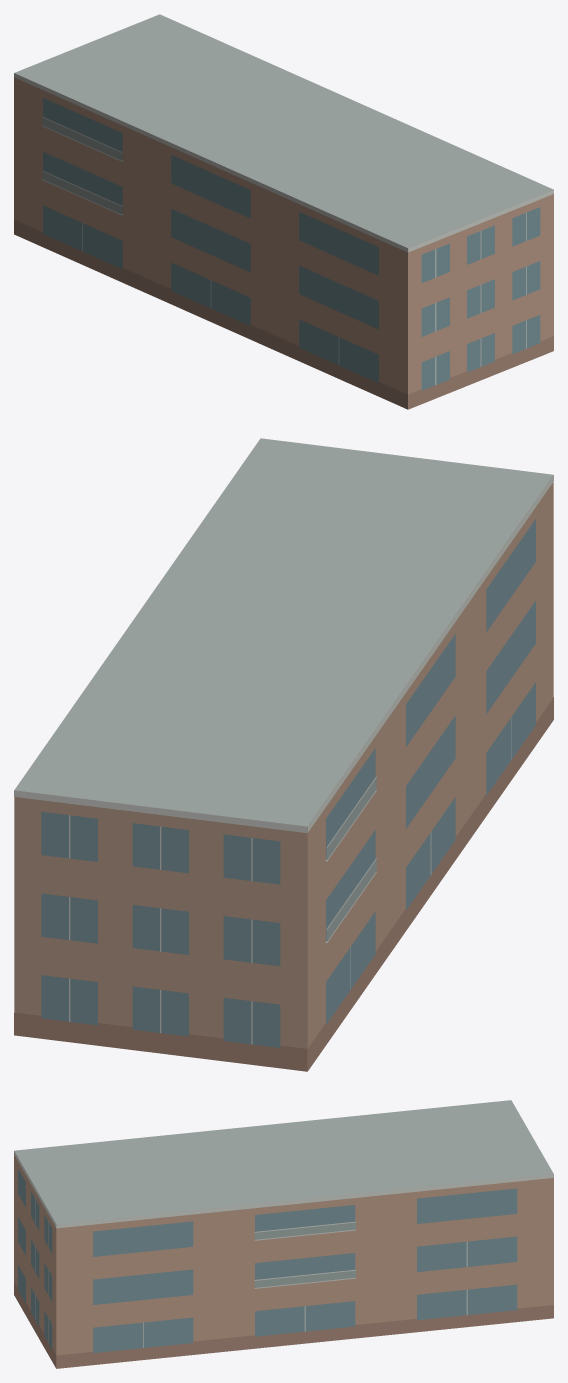
File: survey-upis-32963665.glb
3 renders of one model, top to bottom at view 1: azimuth 30°, elevation 25°; view 2: azimuth 150°, elevation 25°; view 3: azimuth 270°, elevation 25°, orthographic. The views are drawn at different scales.
Parts seen in each view (by area): view 1: survey-upis-32963665.tmp; view 2: survey-upis-32963665.tmp; view 3: survey-upis-32963665.tmp.
Part boxes in pixels (x1,y1,x2,y2): survey-upis-32963665.tmp: [14, 14, 553, 409]; survey-upis-32963665.tmp: [14, 438, 553, 1071]; survey-upis-32963665.tmp: [14, 1100, 553, 1368].
Size of the model in its own units: 16.94 by 9.15 by 31.04.
